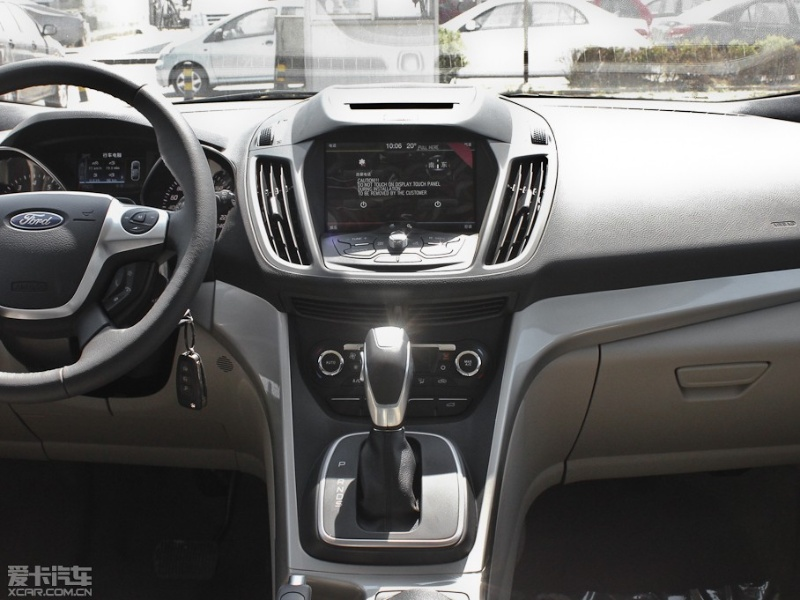control_center: (244, 85, 548, 323)
gear_lever: (282, 311, 520, 566)
odometer: (12, 124, 232, 206)
steering_wheel: (1, 43, 241, 387)
